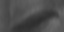LeftEyeFatigue: (10, 8, 60, 32)
